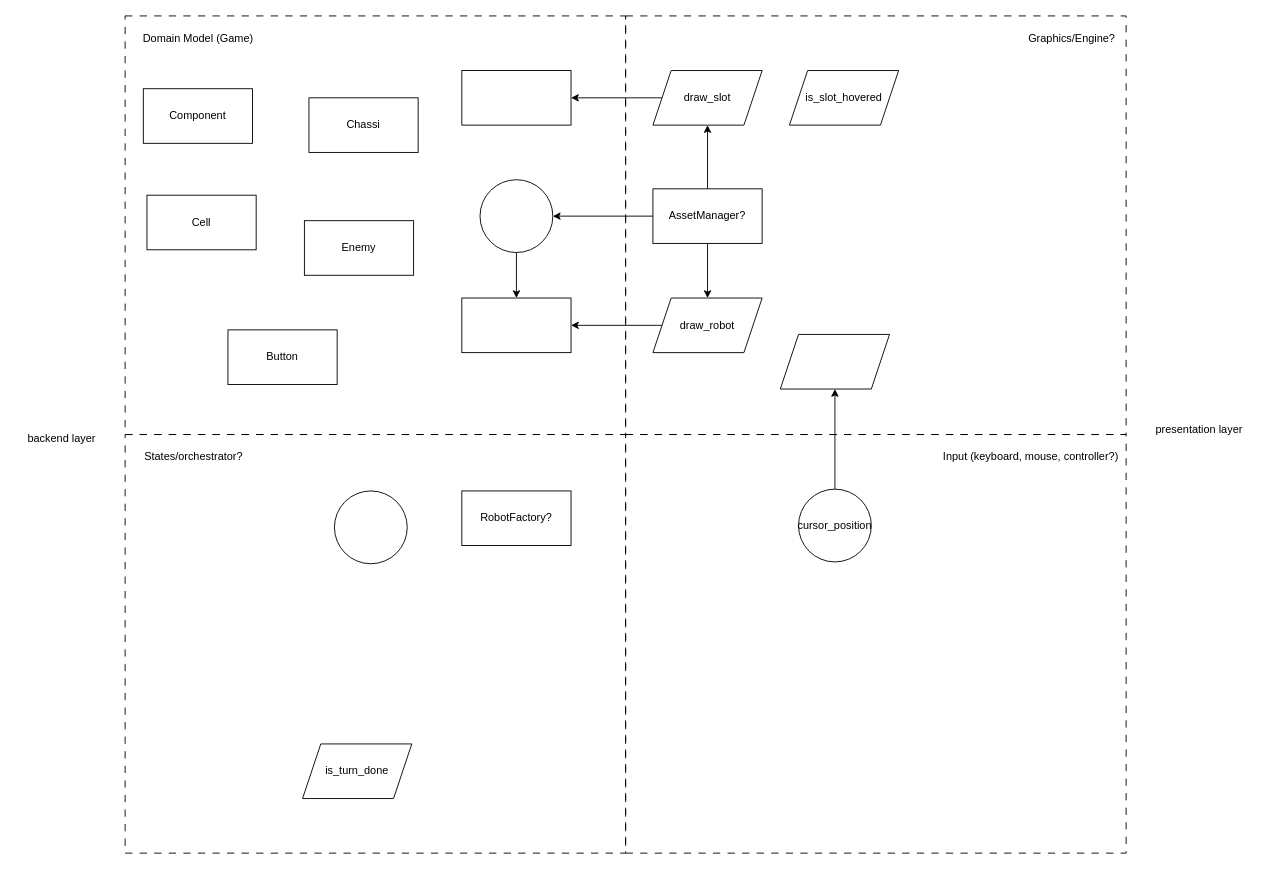
Image size: 1269x869. Some labels were removed from this diagram. The centre of each missing label's shape, as x and y in pixels:
"AssetConfig" goes at [516,216].
"is_robot_hovered" goes at [834,361].
"Robot" goes at [516,325].
"RobotConfig" goes at [370,527].
"Slot" goes at [516,97].
